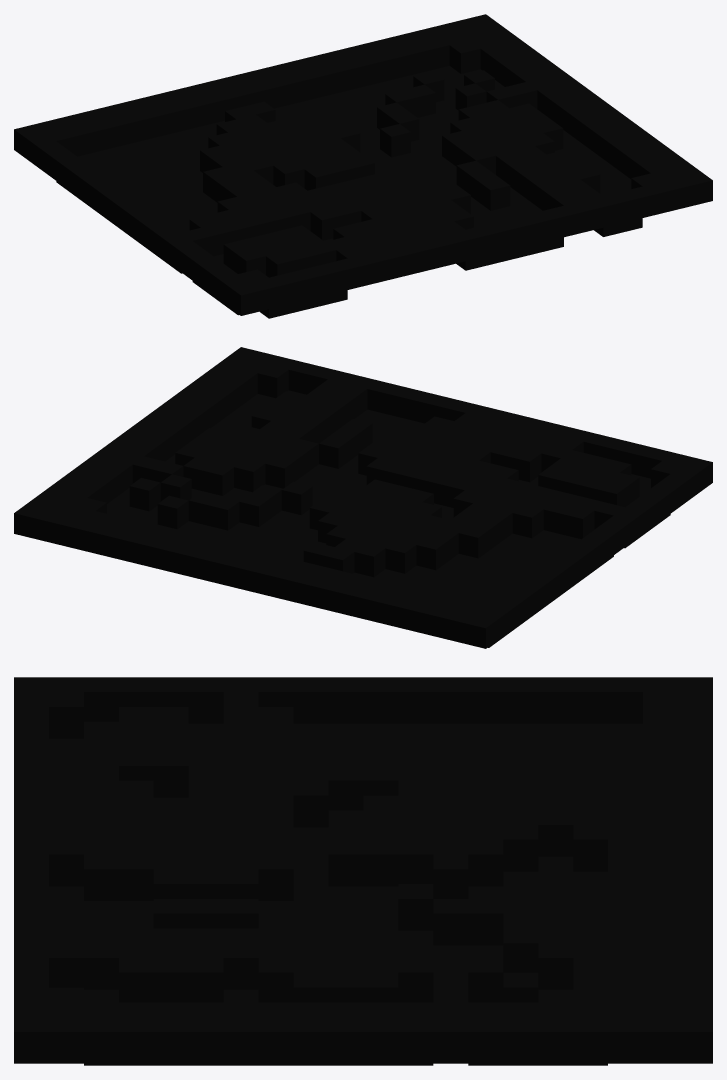
The model's file is Status_EnhancedDx.obj.
3 views of the same model, one above another, from view 1: azimuth 30°, elevation 25°; view 2: azimuth 150°, elevation 25°; view 3: azimuth 270°, elevation 25° (orthographic). The views are drawn at different scales.
Parts seen in each view (by area): view 1: Status-EnhancedDx; view 2: Status-EnhancedDx; view 3: Status-EnhancedDx.
Part boxes in pixels (x1,y1,x2,y2): Status-EnhancedDx: (14, 14, 712, 318); Status-EnhancedDx: (14, 347, 712, 648); Status-EnhancedDx: (14, 677, 712, 1065).
Size of the model in its own units: 2.4 by 0.2 by 2.
